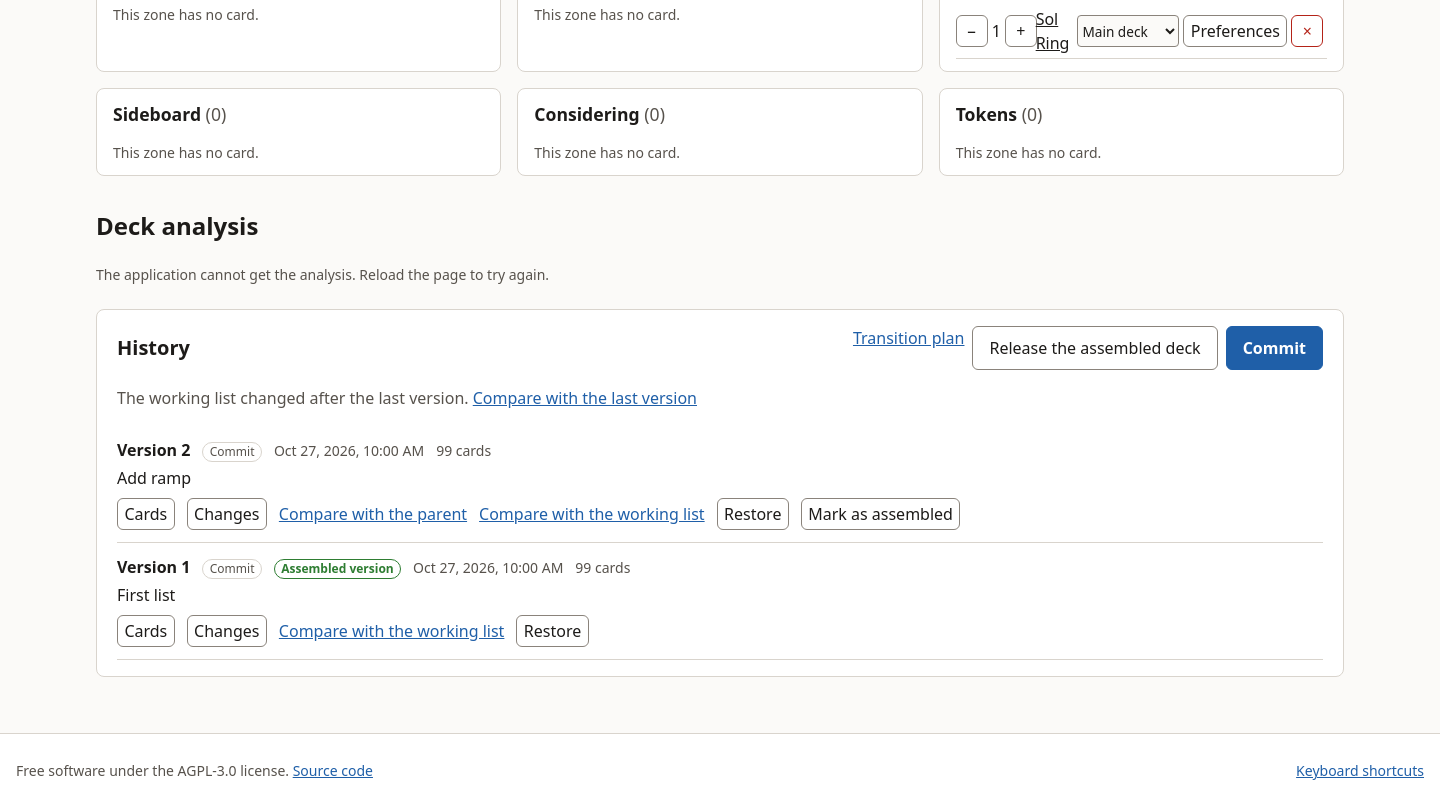
Test: deck history › shows the cards of a version and its changes against its parent
(page scrolled)
Expected: the text "Add ramp" is shown, x1=117 y1=467 x2=191 y2=489
Click the button with aria-label "Cards of version 2": (146, 514) x1=117 y1=498 x2=175 y2=530
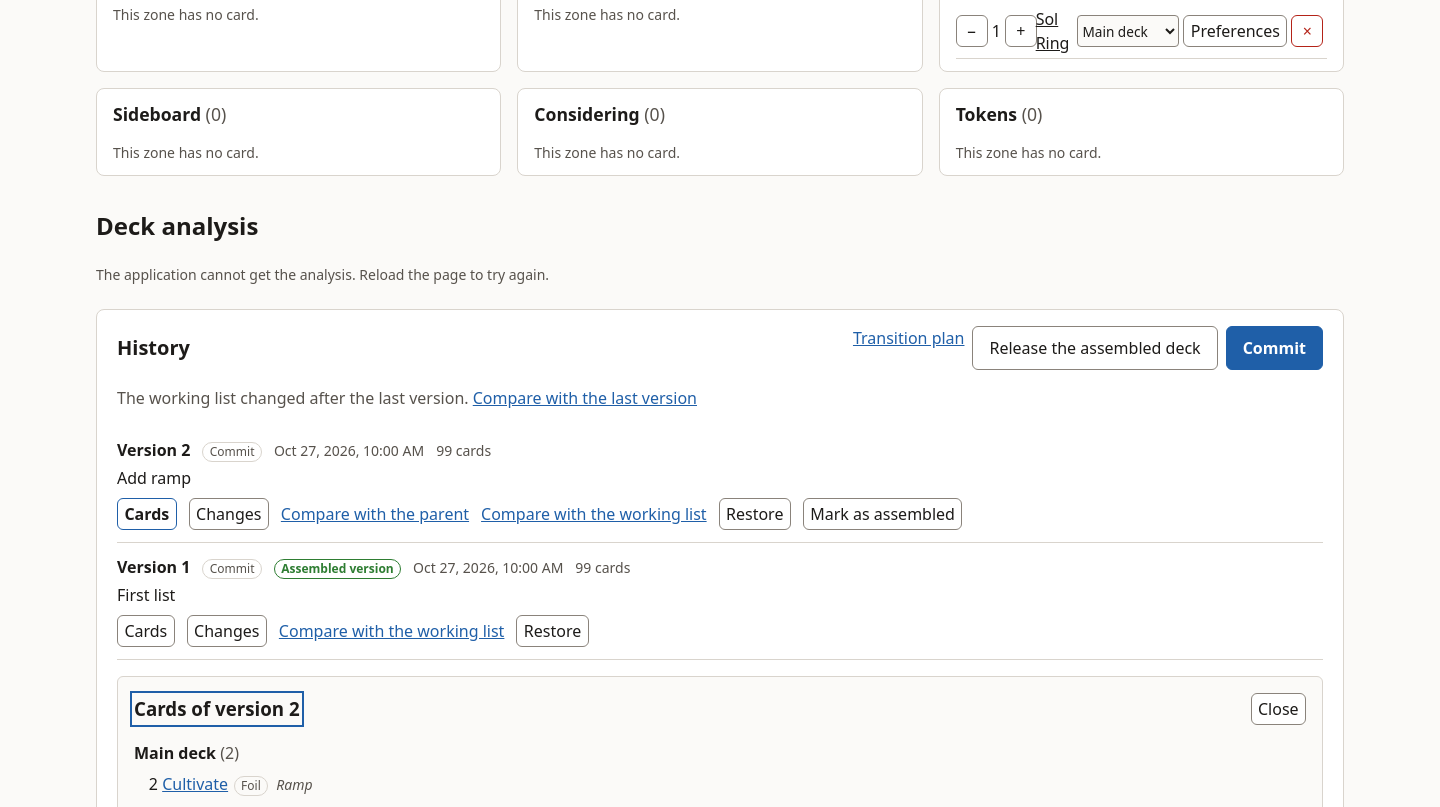
Expected: the link "Cultivate" is shown, x1=162 y1=772 x2=228 y2=794
Expected: the heading "Main deck (2)" is shown, x1=134 y1=742 x2=239 y2=764
Click the button with aria-label "Changes of version 2": (229, 514) x1=189 y1=498 x2=269 y2=530
(page scrolled)
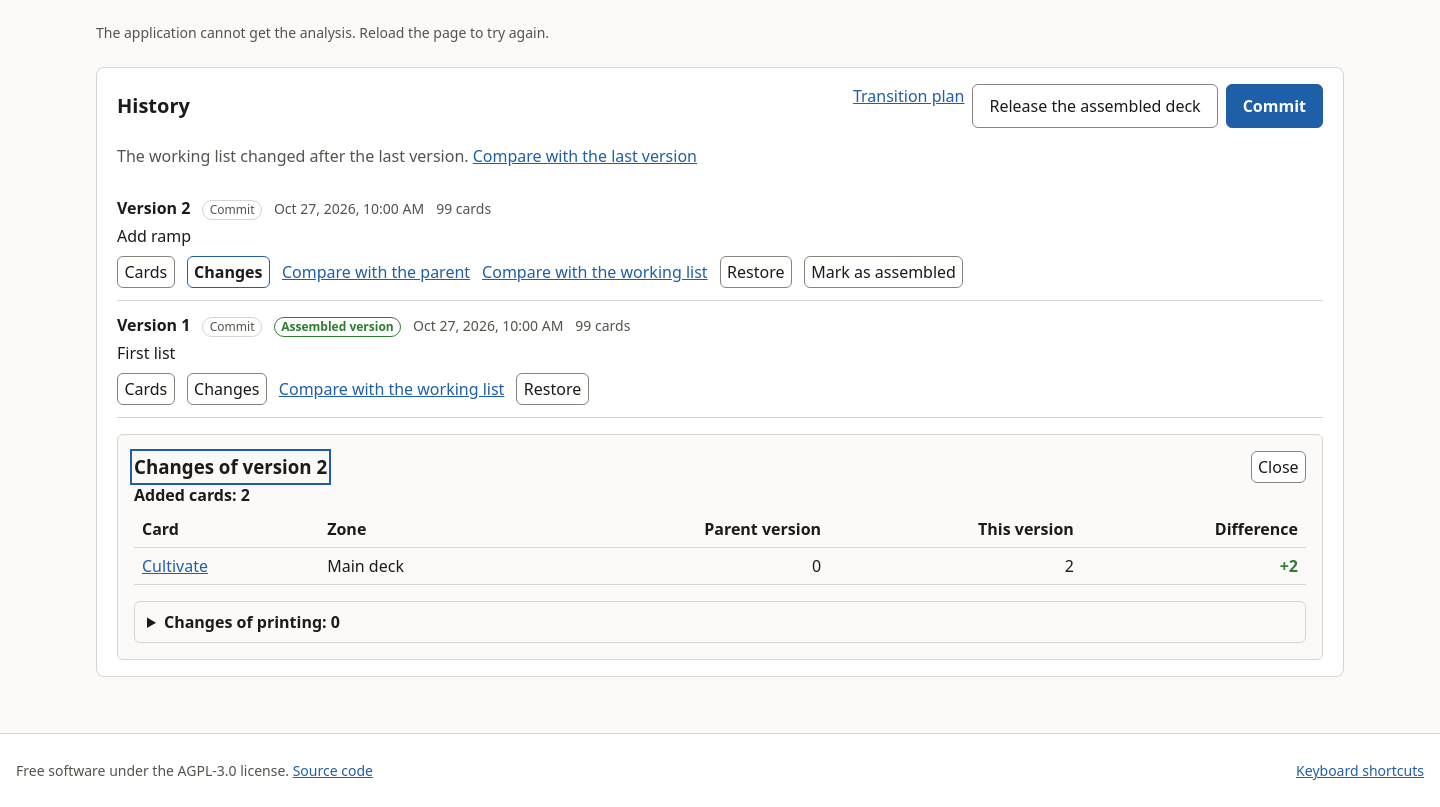
Expected: the cell "+2" is shown, x1=1082 y1=548 x2=1306 y2=585
